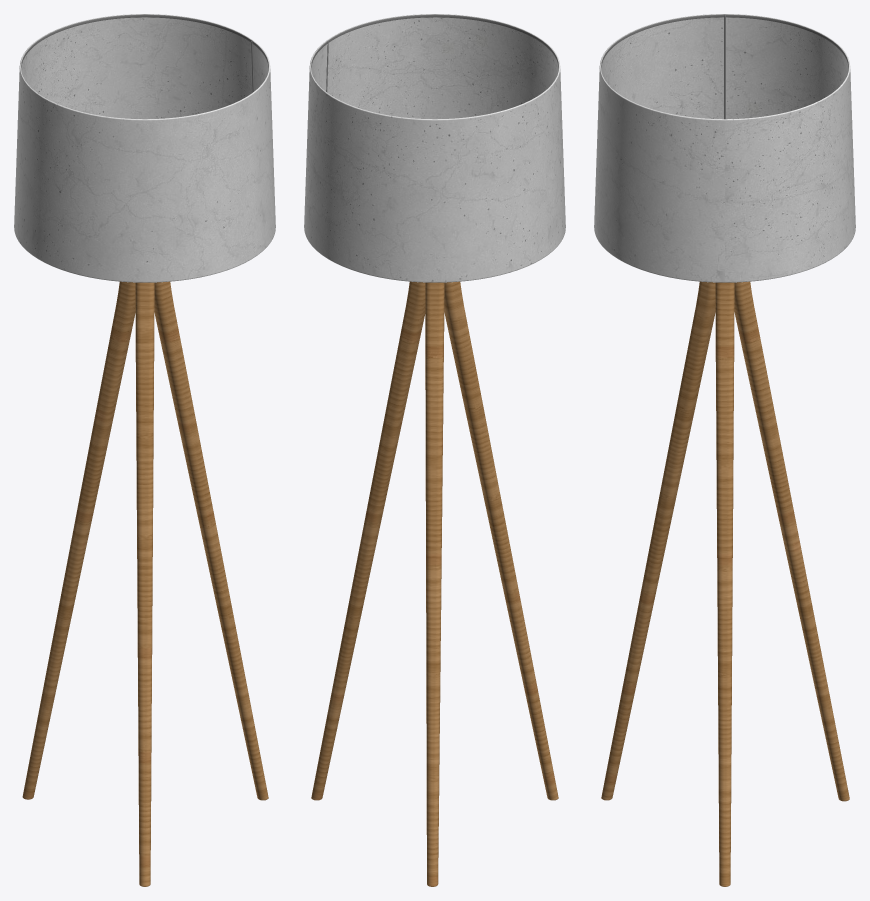
Rendered from Lamp (White).glb.
3 renders of one model, left to right at view 1: azimuth 30°, elevation 25°; view 2: azimuth 150°, elevation 25°; view 3: azimuth 270°, elevation 25°, orthographic.
Visible parts, largest first — view 1: cover_mesh_n3d, leg_003_mesh_n3d, leg_001_mesh_n3d, leg_002_mesh_n3d, frame_mesh_n3d; view 2: cover_mesh_n3d, leg_002_mesh_n3d, leg_001_mesh_n3d, leg_003_mesh_n3d, frame_mesh_n3d; view 3: cover_mesh_n3d, leg_001_mesh_n3d, leg_002_mesh_n3d, leg_003_mesh_n3d, frame_mesh_n3d.
Part boxes in pixels (bbox=[...]): cover_mesh_n3d: bbox=[14, 14, 275, 282]; leg_003_mesh_n3d: bbox=[135, 282, 154, 886]; leg_001_mesh_n3d: bbox=[154, 281, 268, 800]; leg_002_mesh_n3d: bbox=[22, 281, 135, 799]; frame_mesh_n3d: bbox=[21, 14, 268, 93]; cover_mesh_n3d: bbox=[304, 14, 565, 282]; leg_002_mesh_n3d: bbox=[425, 282, 444, 886]; leg_001_mesh_n3d: bbox=[311, 281, 425, 800]; leg_003_mesh_n3d: bbox=[444, 281, 558, 800]; frame_mesh_n3d: bbox=[311, 14, 558, 93]; cover_mesh_n3d: bbox=[594, 14, 855, 282]; leg_001_mesh_n3d: bbox=[715, 282, 734, 886]; leg_002_mesh_n3d: bbox=[734, 281, 849, 801]; leg_003_mesh_n3d: bbox=[601, 281, 715, 800]; frame_mesh_n3d: bbox=[601, 14, 848, 119].
Bounding box in the file's own units: 0.2602 × 0.8 × 0.2497.
8 materials, 4 textured.
